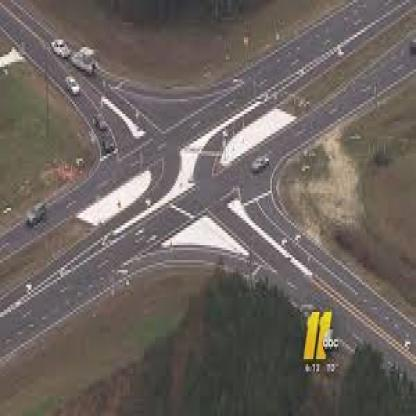car: (25, 197, 52, 229), (64, 72, 82, 104), (250, 152, 270, 177)
